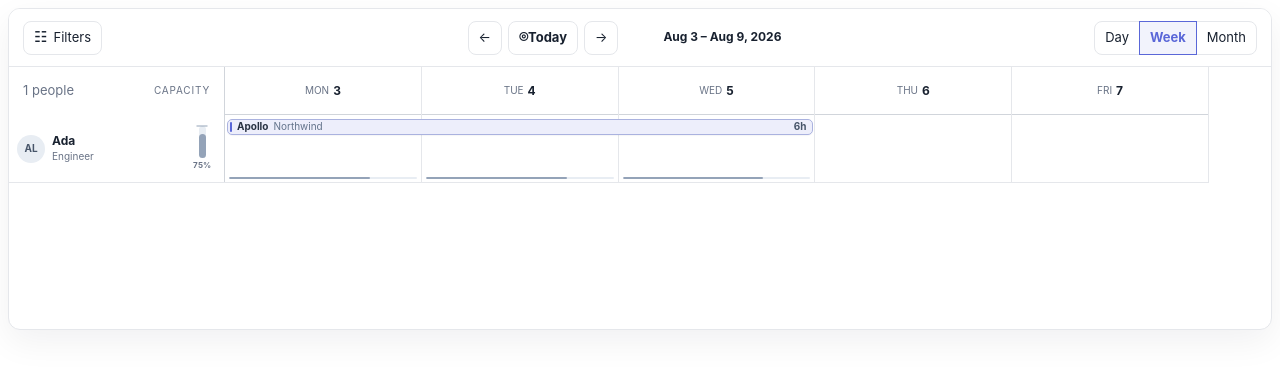
Scenario: Scheduler › dismisses the hover card when the pointer leaves the allocation
Hover over the button "Apollo Northwind 6h" at (253, 126), box left=227, top=119, right=813, bottom=135
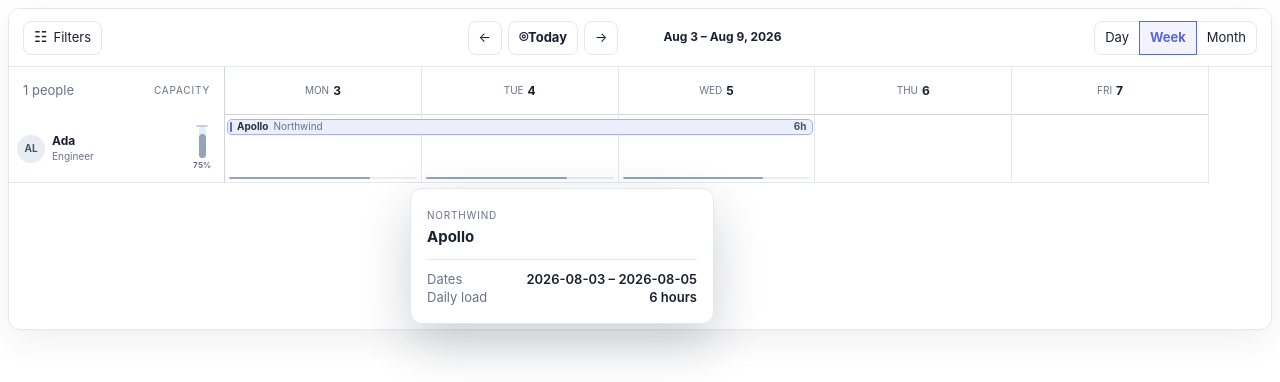
expect the tooltip is shown: met, box left=410, top=188, right=714, bottom=324
Move the pointer off the button "Apollo Northwind 6h", box left=227, top=119, right=813, bottom=135
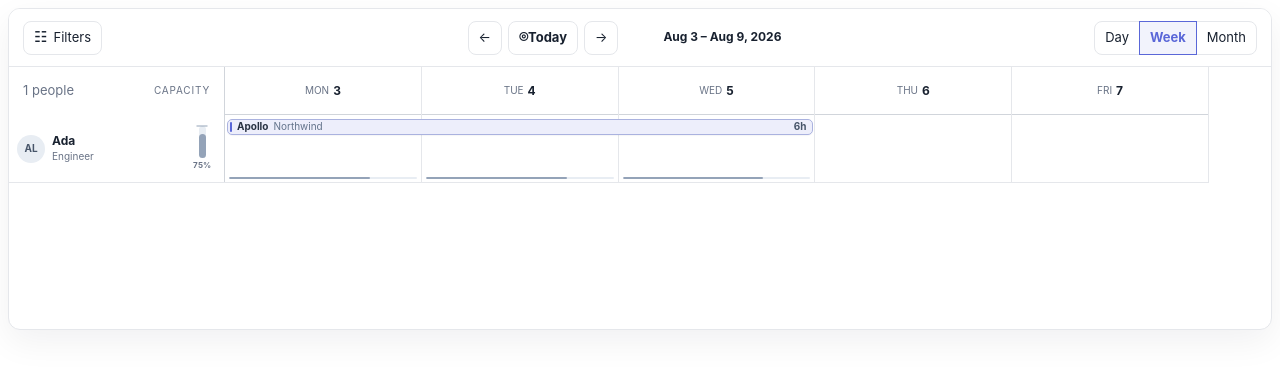
expect the tooltip "Northwind Apollo Dates 2026-08-03 – 2026-08-05 Daily load 6 hours" is gone: met
